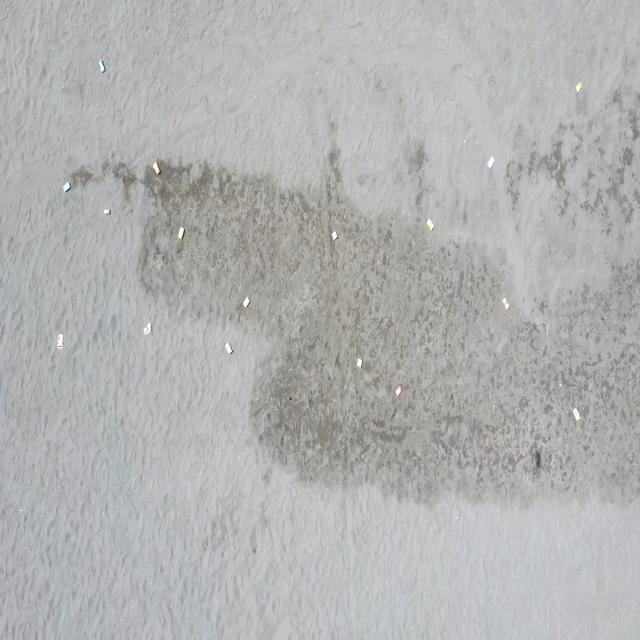retort-pouch: (56, 333, 65, 351), (224, 340, 233, 358), (97, 58, 106, 75), (177, 223, 185, 242), (153, 160, 161, 178), (501, 296, 510, 311), (426, 218, 434, 234), (242, 294, 250, 310), (62, 180, 71, 194), (144, 321, 152, 336), (573, 406, 580, 422), (575, 80, 583, 94), (487, 155, 494, 171), (395, 384, 403, 398), (331, 230, 339, 243), (357, 357, 363, 370), (104, 207, 110, 218)
